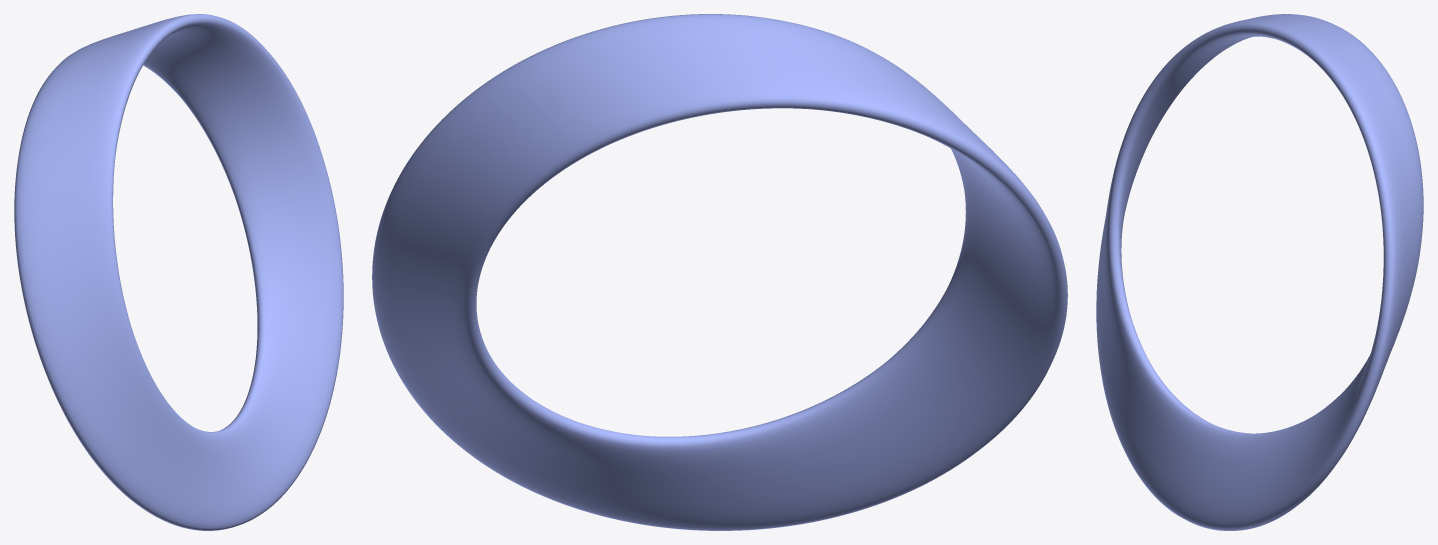
The model's file is accent.glb.
3 renders of one model, left to right at view 1: azimuth 30°, elevation 25°; view 2: azimuth 150°, elevation 25°; view 3: azimuth 270°, elevation 25°, orthographic. The views are drawn at different scales.
Parts seen in each view (by area): view 1: AccentRibbon; view 2: AccentRibbon; view 3: AccentRibbon.
Boxes of the visible parts, <box> form: AccentRibbon: <box>14,14,343,530</box>; AccentRibbon: <box>372,14,1067,530</box>; AccentRibbon: <box>1096,14,1423,530</box>.
Bounding box in the file's own units: 2.11 × 2.18 × 1.43.
